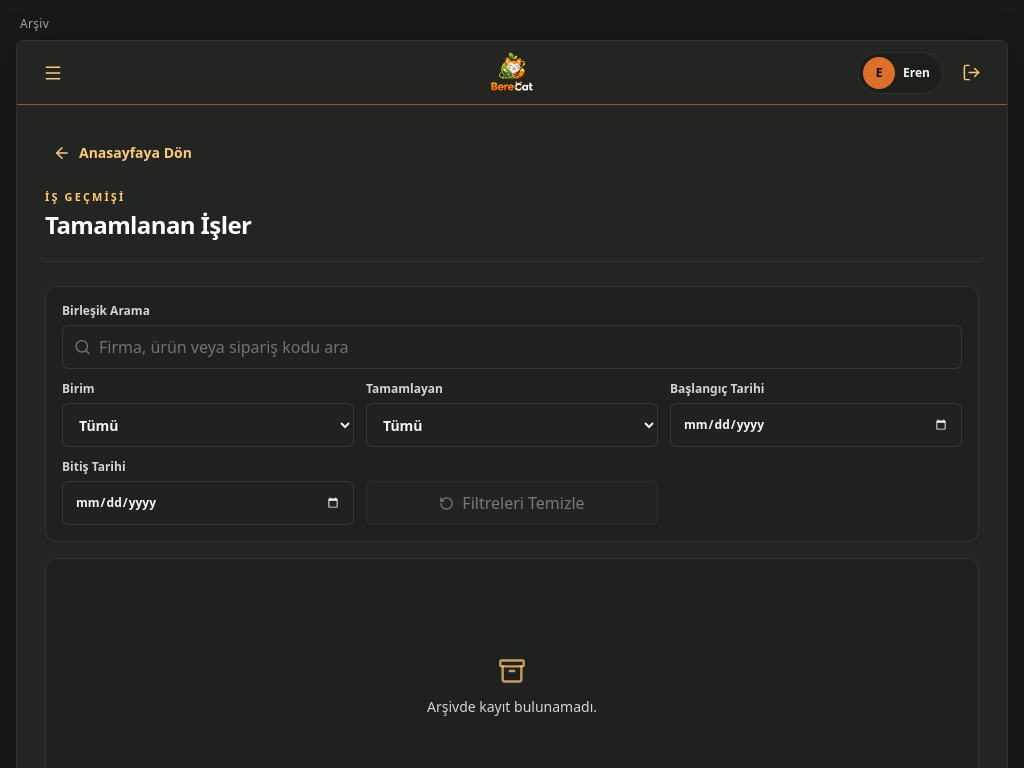
Phase 02C arşiv akışı › boş arşiv ile filtrelenmiş boş sonucu doğru güvenli metinlerle ayırır
The image size is (1024, 768).
Expected: the text "Arşivde kayıt bulunamadı." is shown, [427,697,597,717]
Select "Dijital" in the dropdown labelled "Birim" at [208, 425], box [62,403,354,447]
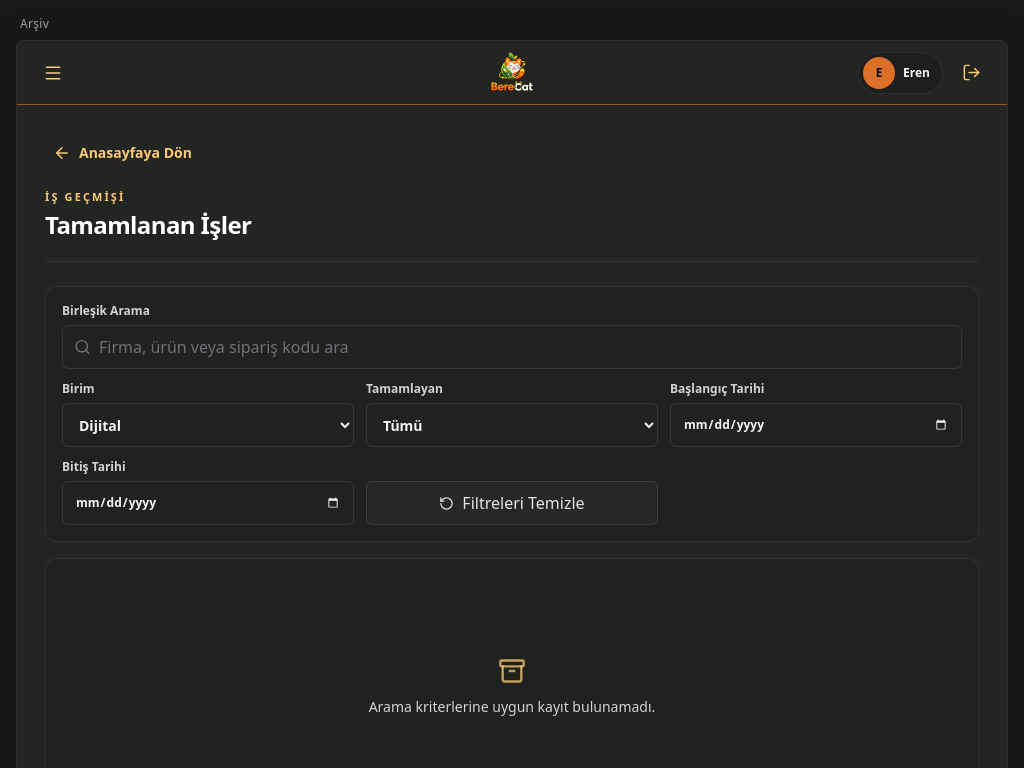
Expected: the text "Arama kriterlerine uygun kayıt bulunamadı." is shown, [369,697,655,717]
